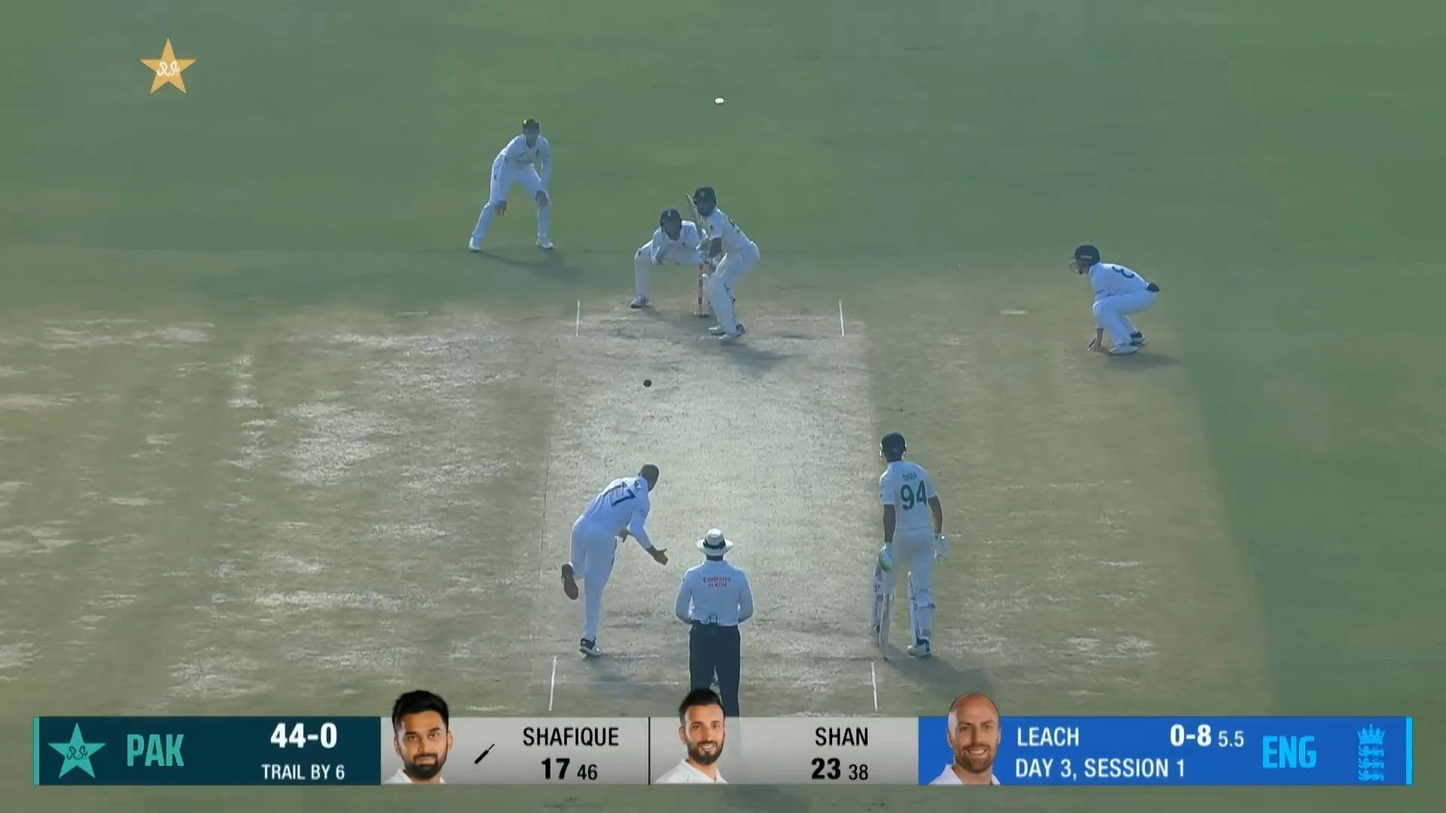BM 1: (685, 186, 761, 343)
BO: (559, 462, 669, 660)
